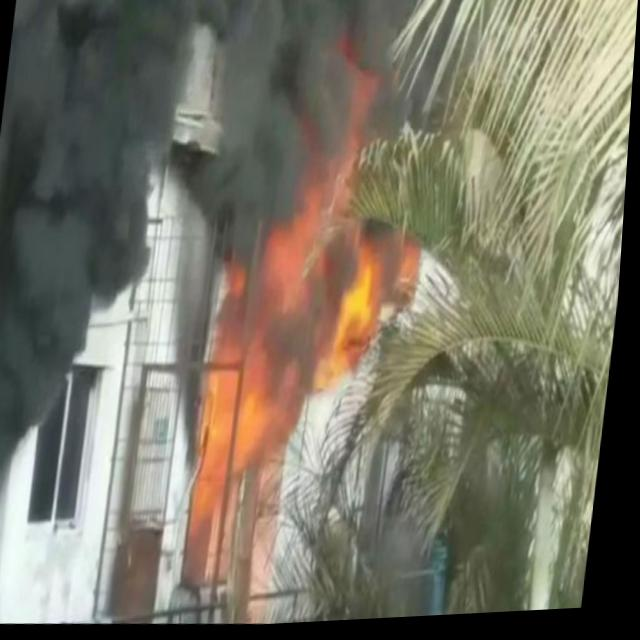fire: (174, 146, 441, 598)
